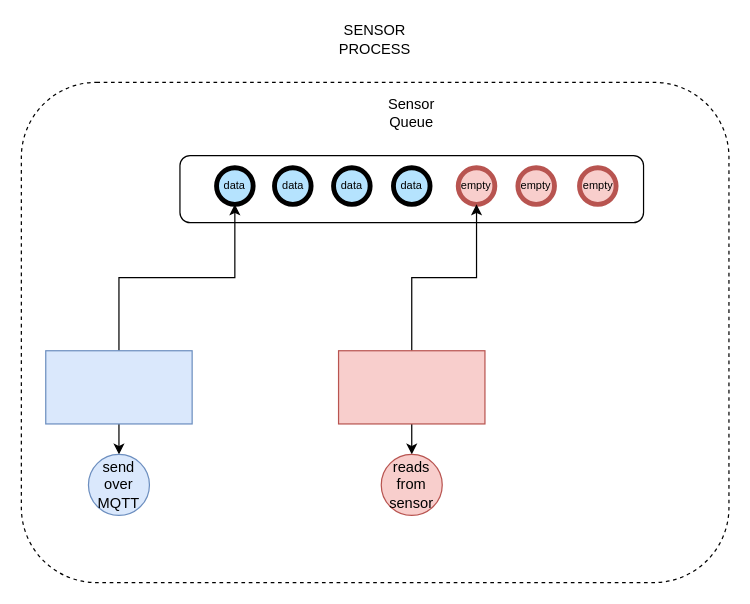
This 750x604 diagram has some shape labels left out. The shapes that lost their labels are listed below. From the top down, each one's centre as x and y in pixels, then its label:
At (118,387): "Sensor Consumer".
At (411,387): "Sensor Producer".
